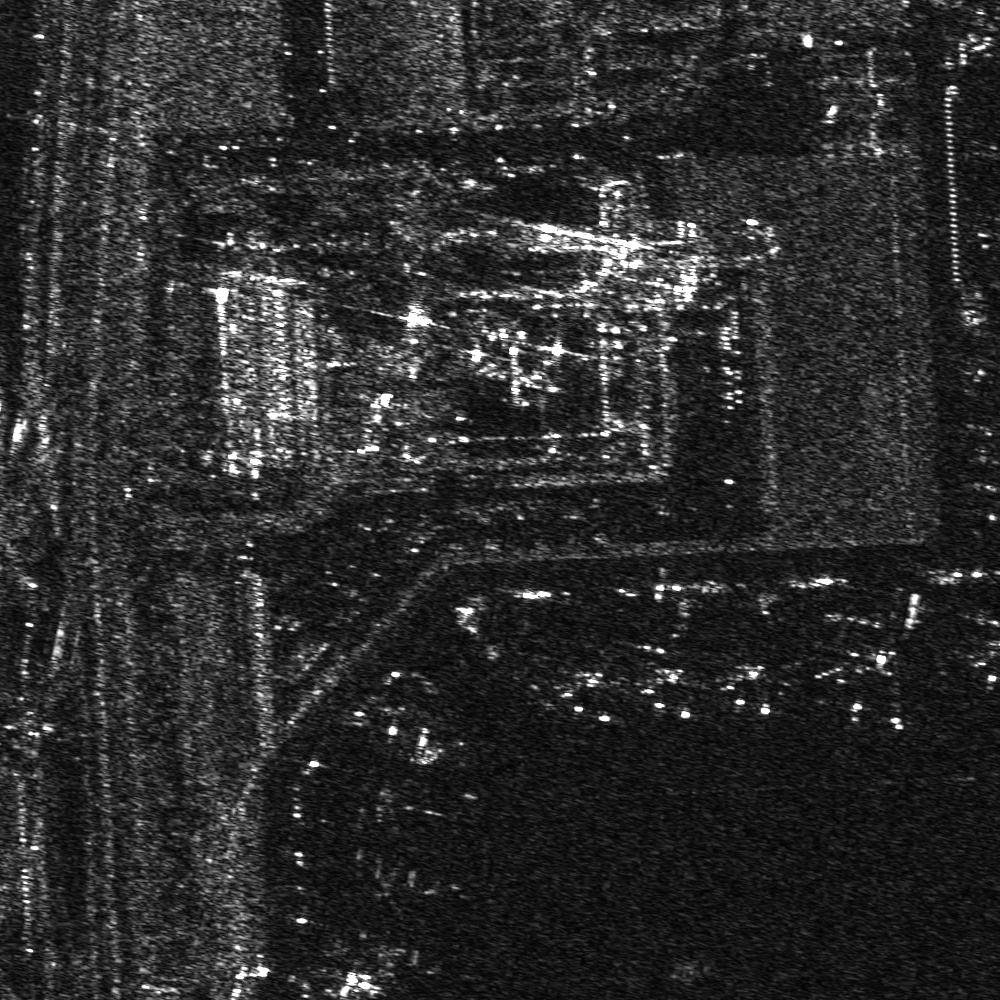Boeing737: (630, 663, 706, 724), (720, 659, 792, 716), (553, 669, 624, 723), (970, 616, 999, 695)
other: (813, 636, 947, 731)
